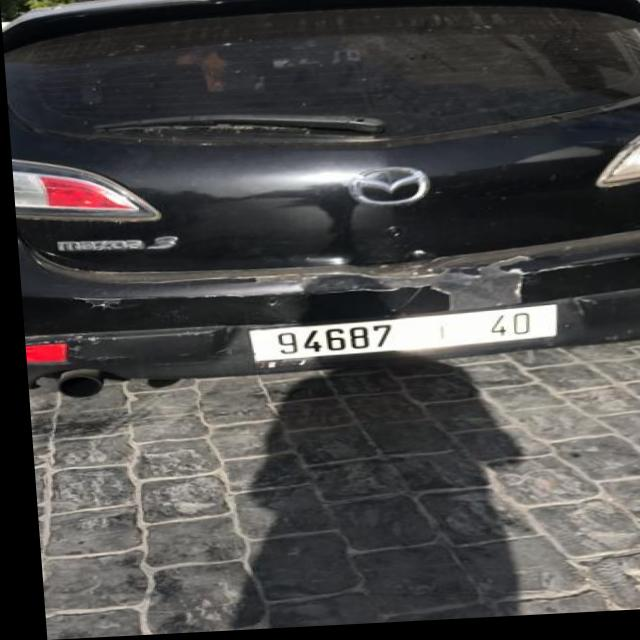License-Plate: (248, 311, 552, 363)
